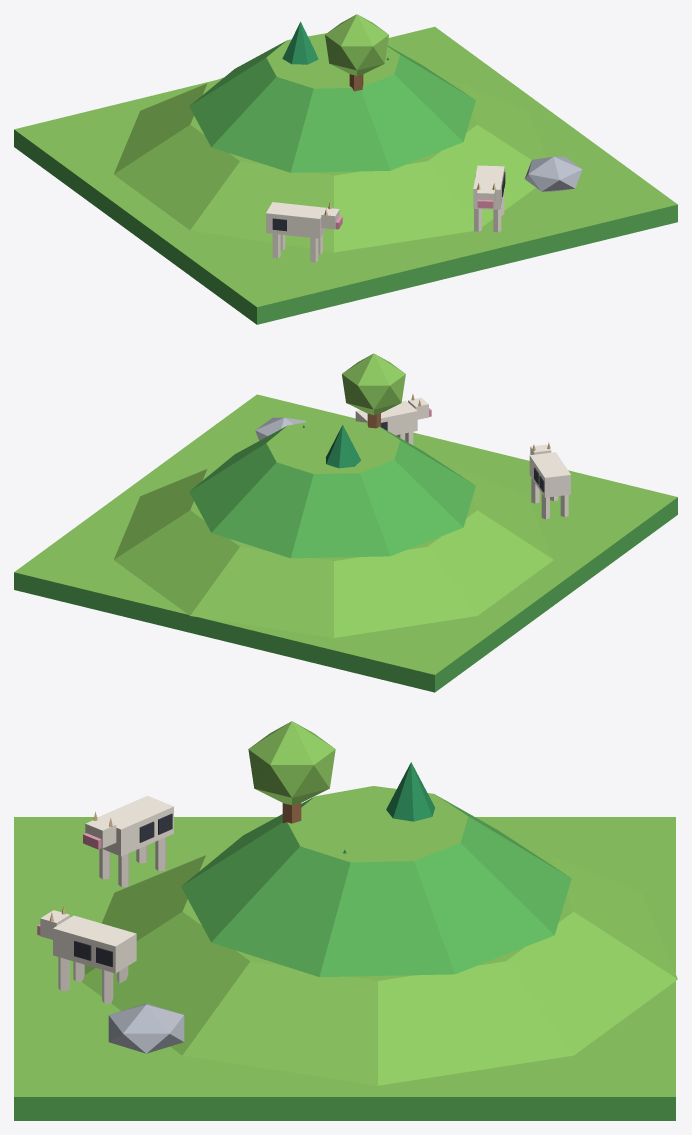
The model's file is nature_hill.glb.
3 views of the same model, one above another, from view 1: azimuth 30°, elevation 25°; view 2: azimuth 150°, elevation 25°; view 3: azimuth 270°, elevation 25° (orthographic). The views are drawn at different scales.
Parts seen in each view (by area): view 1: nature_hill; view 2: nature_hill; view 3: nature_hill.
Part boxes in pixels (left/top/right/bottom): nature_hill: left=14, top=14, right=677, bottom=324; nature_hill: left=14, top=353, right=677, bottom=692; nature_hill: left=14, top=721, right=677, bottom=1120.
Bounding box in the file's own units: 1 × 0.424 × 1.
